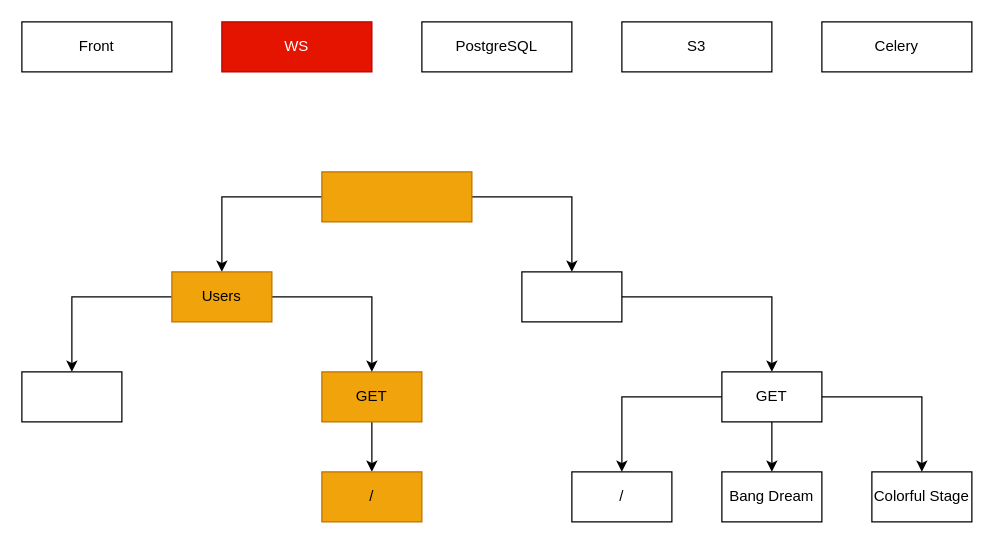
Some shapes in this 994 by 544 pixel diagram are drawn without their labels. Here are the shapes that lost their labels. From the top down, the centre of each, then its label:
point (396, 196): Backend /api/v1
point (571, 296): Games
point (71, 396): POST
